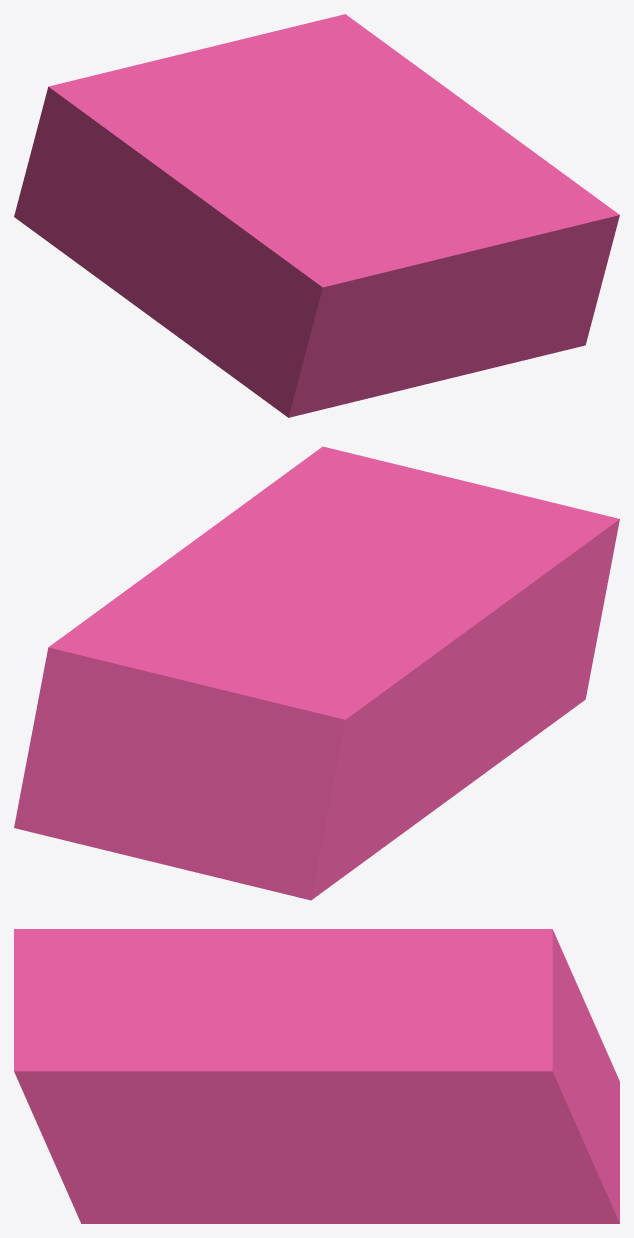
File: gum.fbx
The picture shows the model from 3 angles, top to bottom: view 1: azimuth 30°, elevation 25°; view 2: azimuth 150°, elevation 25°; view 3: azimuth 270°, elevation 25°; orthographic projection.
Visible parts, largest first — view 1: Model; view 2: Model; view 3: Model.
Part boxes in pixels (bbox=[...]): Model: bbox=[14, 14, 619, 417]; Model: bbox=[14, 446, 619, 900]; Model: bbox=[14, 929, 619, 1223].
Bounding box in the file's own units: 500 × 250 × 900.
